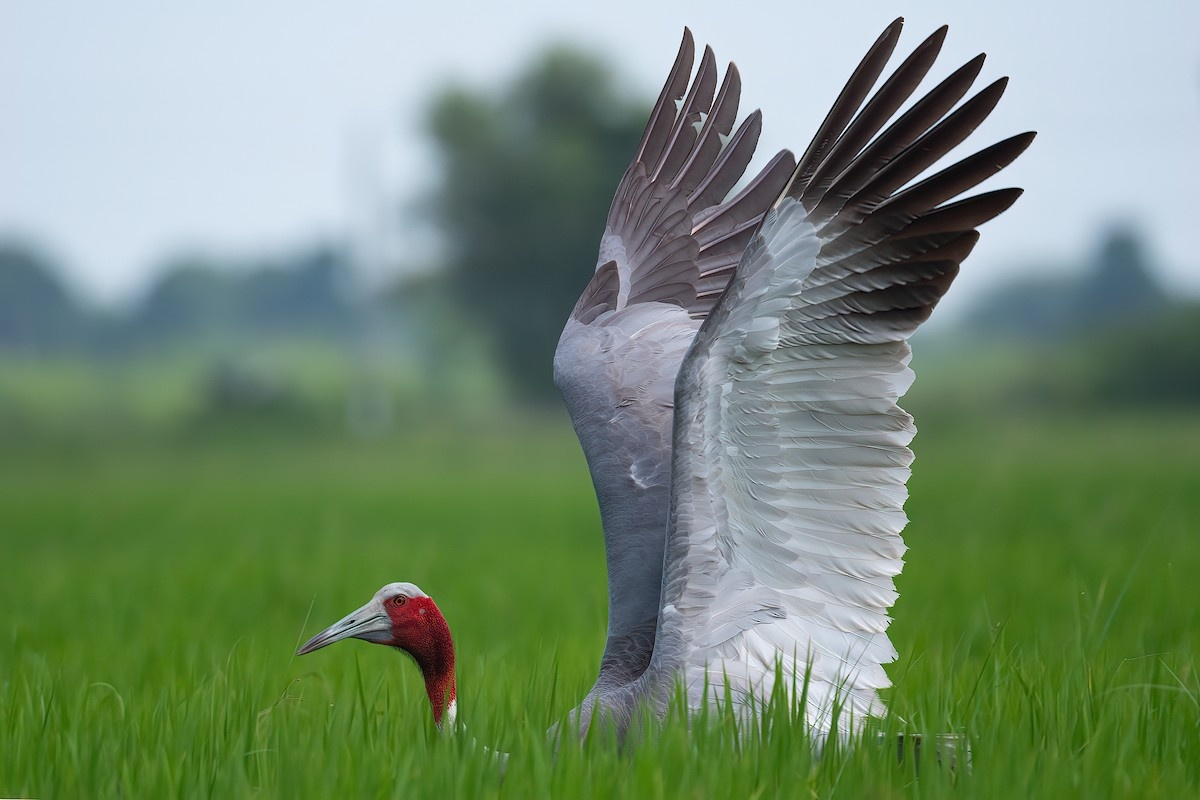crane: (252, 15, 1058, 764), (291, 571, 502, 743)
